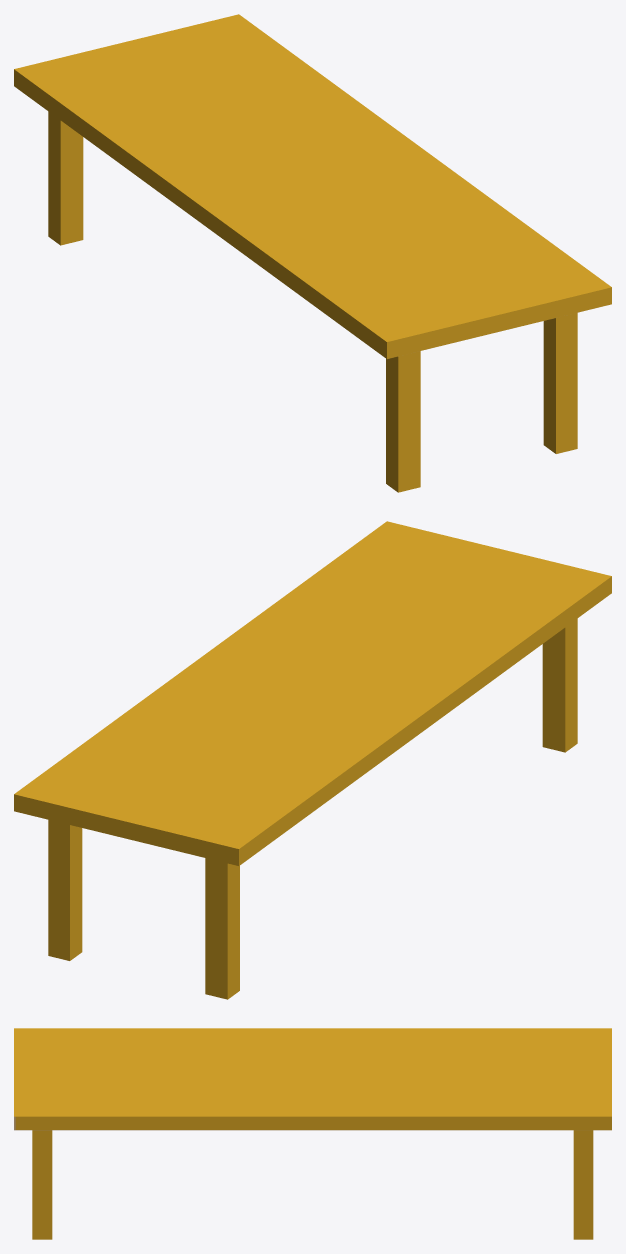
File: mesa1.obj
3 views of the same model, one above another, from view 1: azimuth 30°, elevation 25°; view 2: azimuth 150°, elevation 25°; view 3: azimuth 270°, elevation 25° (orthographic). The views are drawn at different scales.
Parts seen in each view (by area): view 1: Cube; view 2: Cube; view 3: Cube.
Boxes of the visible parts, x1,y1,x2,y2 form: Cube: (14, 14, 611, 492); Cube: (14, 521, 611, 999); Cube: (14, 1028, 611, 1239).
Size of the model in its own units: 1.99 by 1.39 by 5.72.
